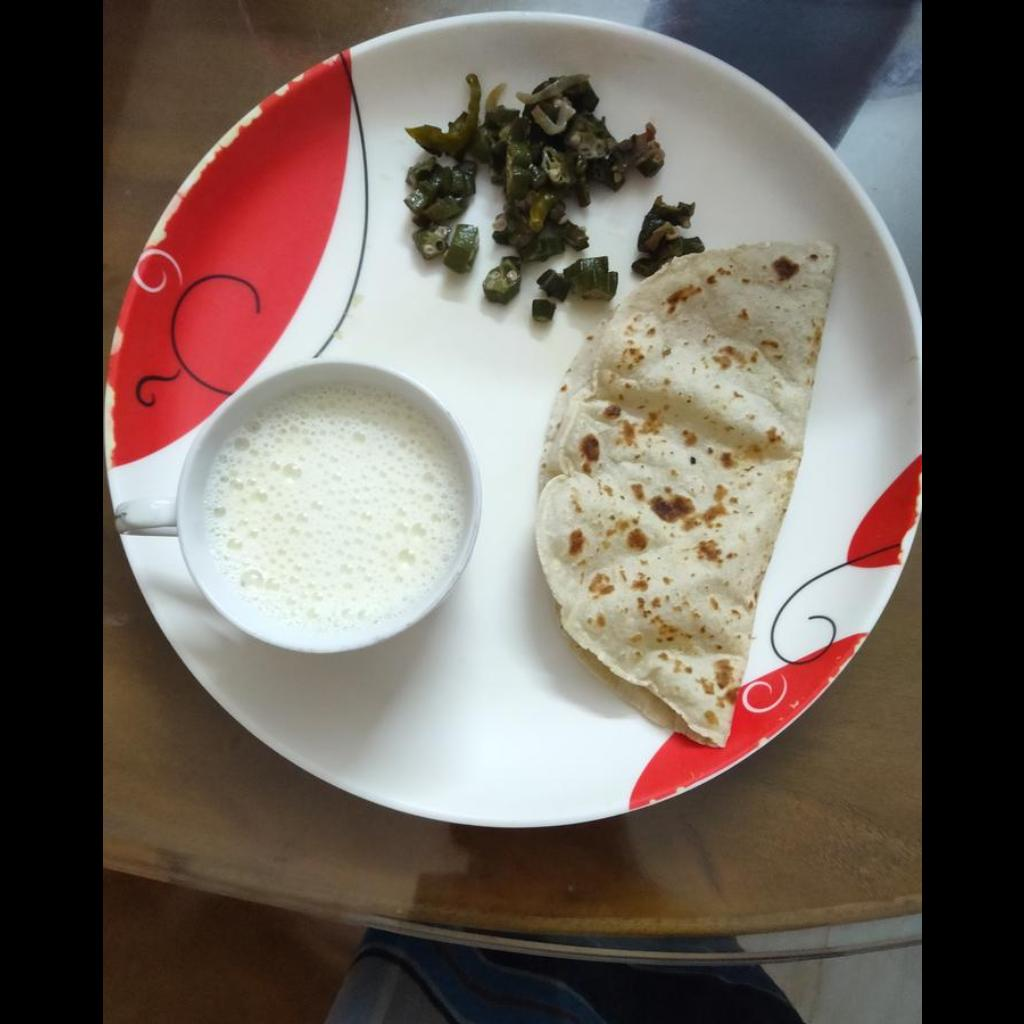milk: (203, 384, 468, 623)
okra: (404, 68, 659, 326)
ruti: (531, 238, 842, 745)
